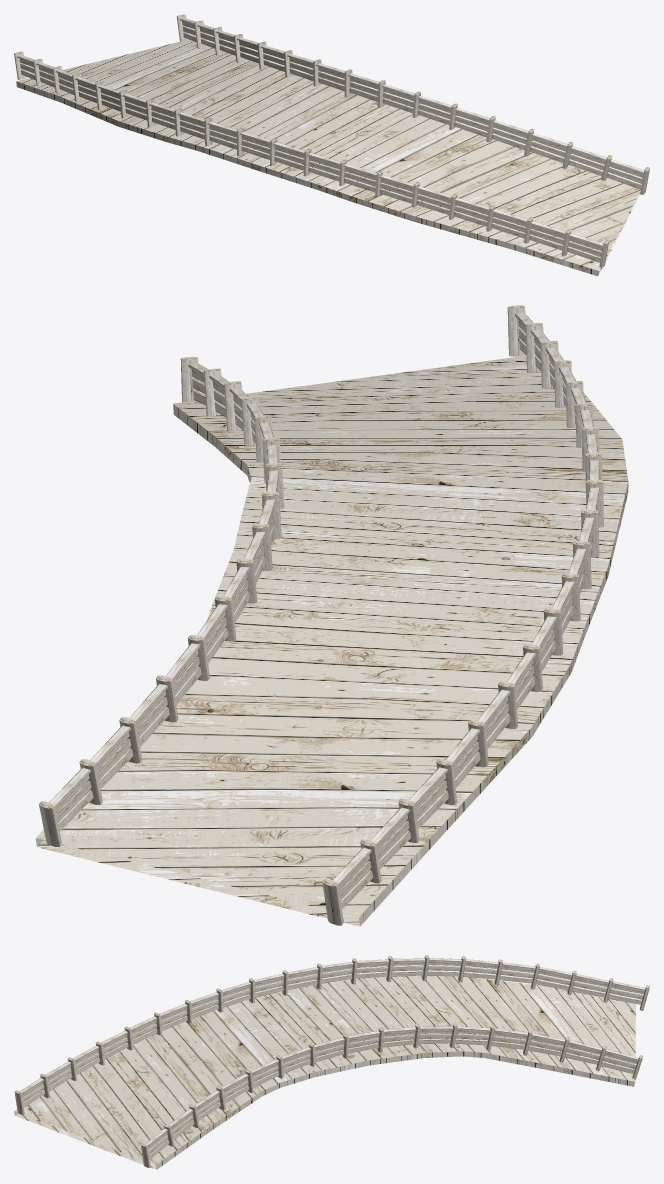
Rendered from Gazebo Bridge curved 1.fbx.
The picture shows the model from 3 angles, top to bottom: view 1: azimuth 30°, elevation 25°; view 2: azimuth 150°, elevation 25°; view 3: azimuth 270°, elevation 25°; orthographic projection. The views are drawn at different scales.
Parts seen in each view (by area): view 1: Cube.017; view 2: Cube.017; view 3: Cube.017.
Part boxes in pixels (bbox=[...]): Cube.017: bbox=[14, 14, 649, 276]; Cube.017: bbox=[35, 305, 628, 926]; Cube.017: bbox=[14, 955, 649, 1169].
Bounding box in the file's own units: 777 × 145 × 1280.
